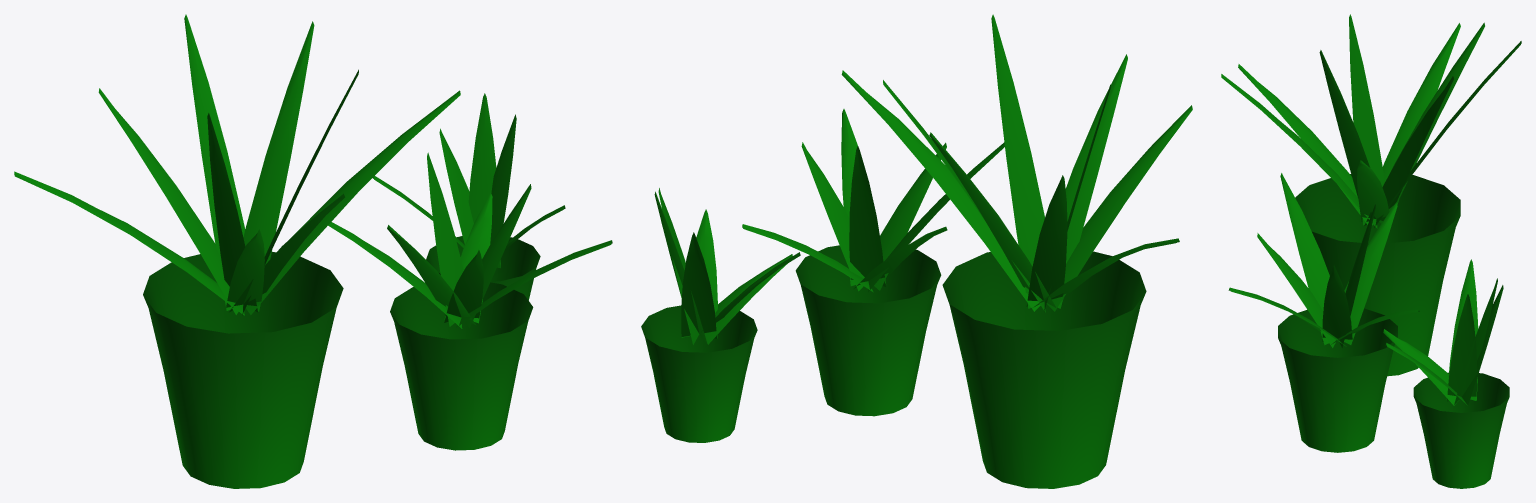
Rendered from pot_plants.glb.
The picture shows the model from 3 angles, left to right: view 1: azimuth 30°, elevation 25°; view 2: azimuth 150°, elevation 25°; view 3: azimuth 270°, elevation 25°; orthographic projection. The views are drawn at different scales.
Parts seen in each view (by area): view 1: pot_plants; view 2: pot_plants; view 3: pot_plants.
Boxes of the visible parts, box(x1,y1,x2,y2) form: pot_plants: box(14, 14, 612, 488); pot_plants: box(641, 14, 1192, 488); pot_plants: box(1221, 14, 1521, 488).
Size of what is drawn, in the model's own units: 1.33 by 0.9708 by 0.7759.
